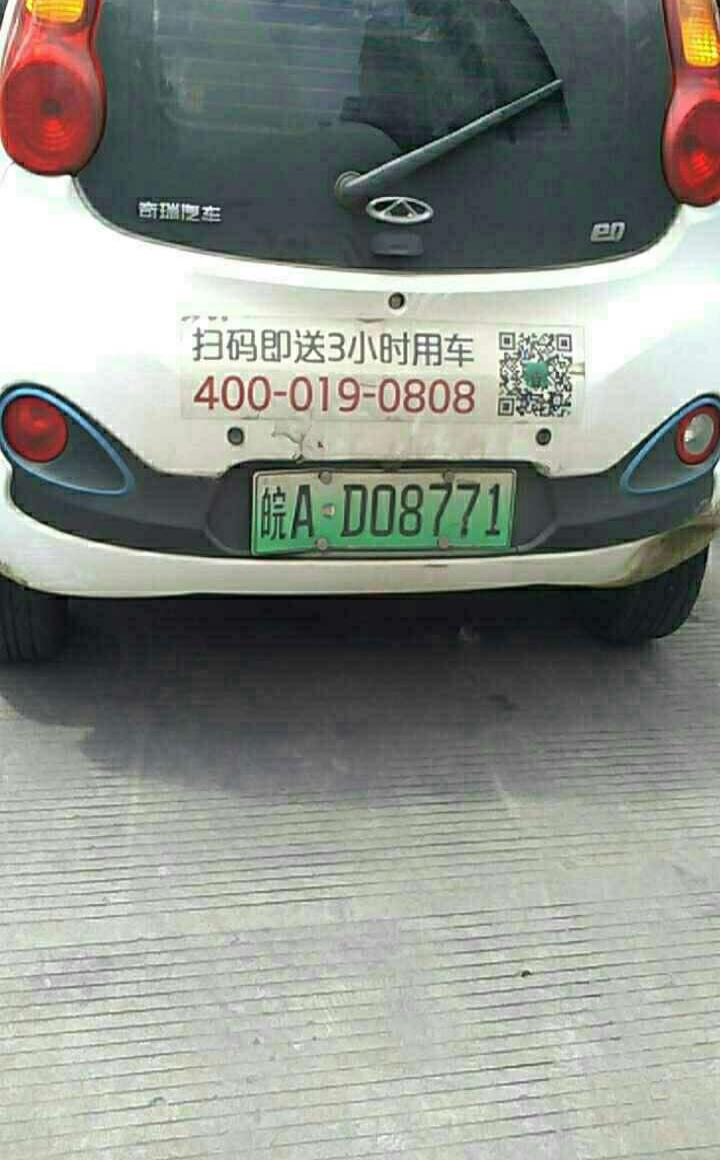car_id: (253, 473, 517, 555)
